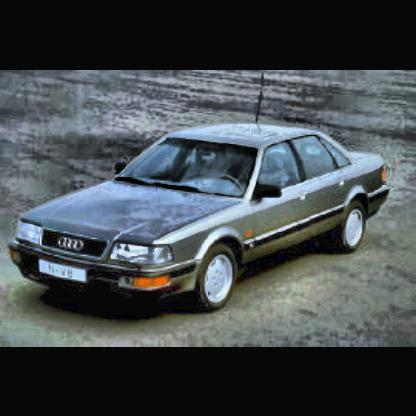Audi V8 Sedan 1994: (13, 124, 393, 315)
